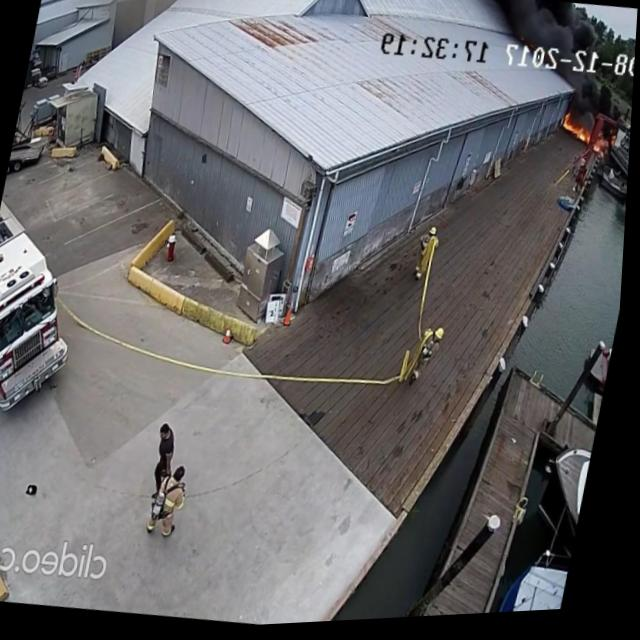fire: (560, 109, 598, 153), (594, 135, 621, 164)
